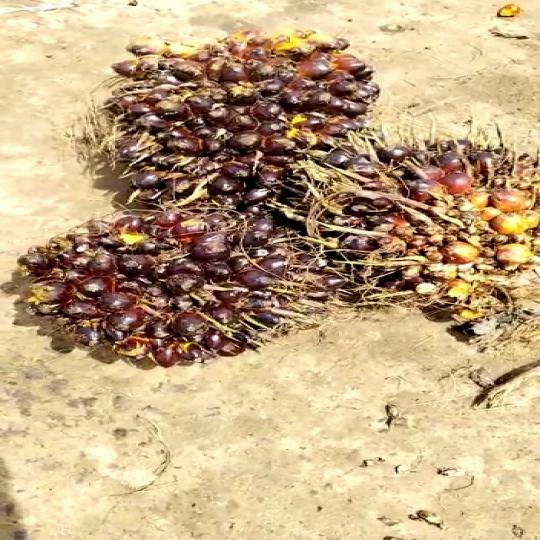kurang masak: (320, 121, 540, 342), (106, 19, 346, 212), (0, 223, 313, 352)
